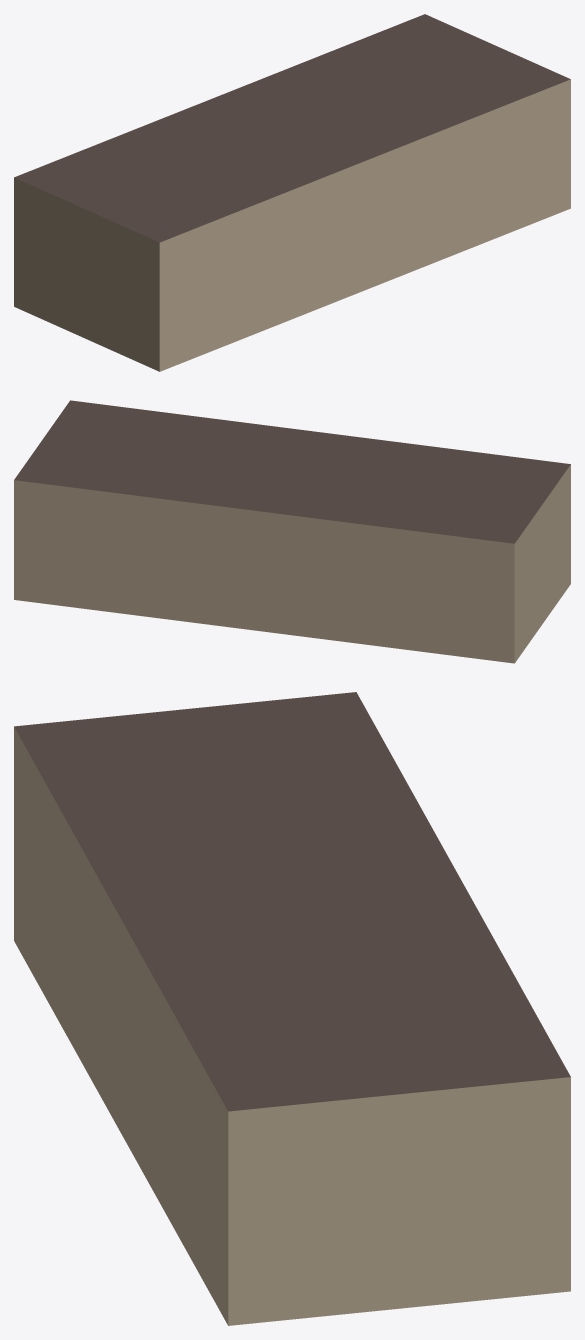
The picture shows the model from 3 angles, top to bottom: view 1: azimuth 30°, elevation 25°; view 2: azimuth 150°, elevation 25°; view 3: azimuth 270°, elevation 25°; orthographic projection. The views are drawn at different scales.
Parts seen in each view (by area): view 1: HP-w449064153; view 2: HP-w449064153; view 3: HP-w449064153.
Boxes of the visible parts, box(x1,y1,x2,y2) form: HP-w449064153: box(14, 14, 570, 371); HP-w449064153: box(14, 400, 570, 663); HP-w449064153: box(14, 692, 570, 1325).
Bounding box in the file's own units: 37.76 × 9 × 21.19.
